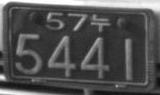1: (116, 37, 141, 79)
4: (81, 36, 110, 78), (47, 35, 76, 76)
5: (14, 32, 42, 75), (45, 11, 65, 30)
7: (68, 12, 88, 31)
누: (90, 13, 111, 32)
